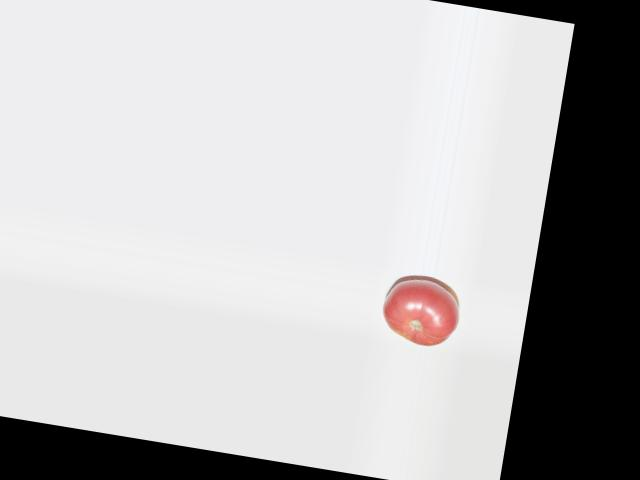tomato: (377, 275, 464, 351)
